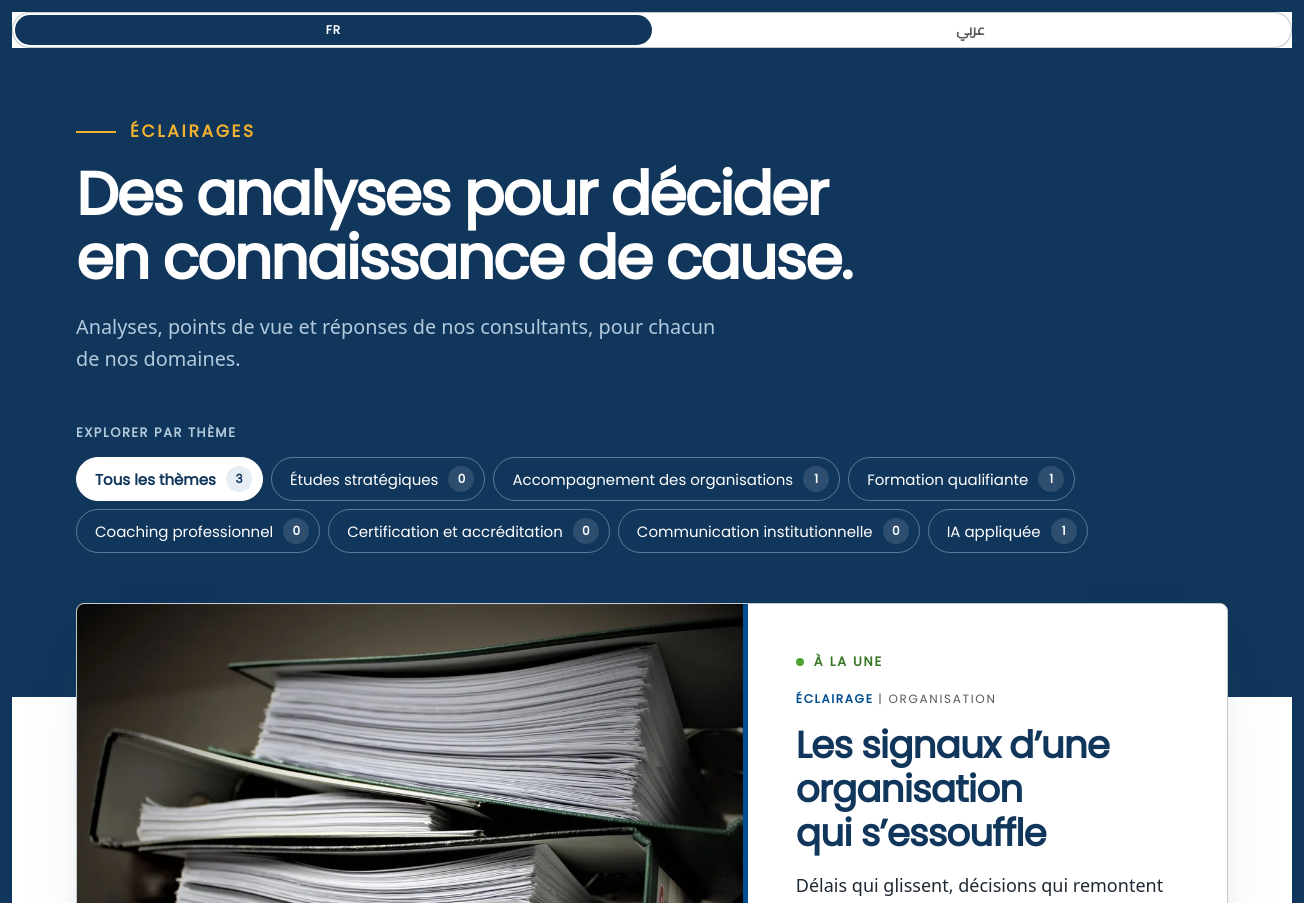
Test: Page « Éclairages » › un thème filtre la page et s’inscrit dans l’adresse
Click the button "IA appliquée 1".
click(1008, 532)  # box [928, 510, 1088, 554]
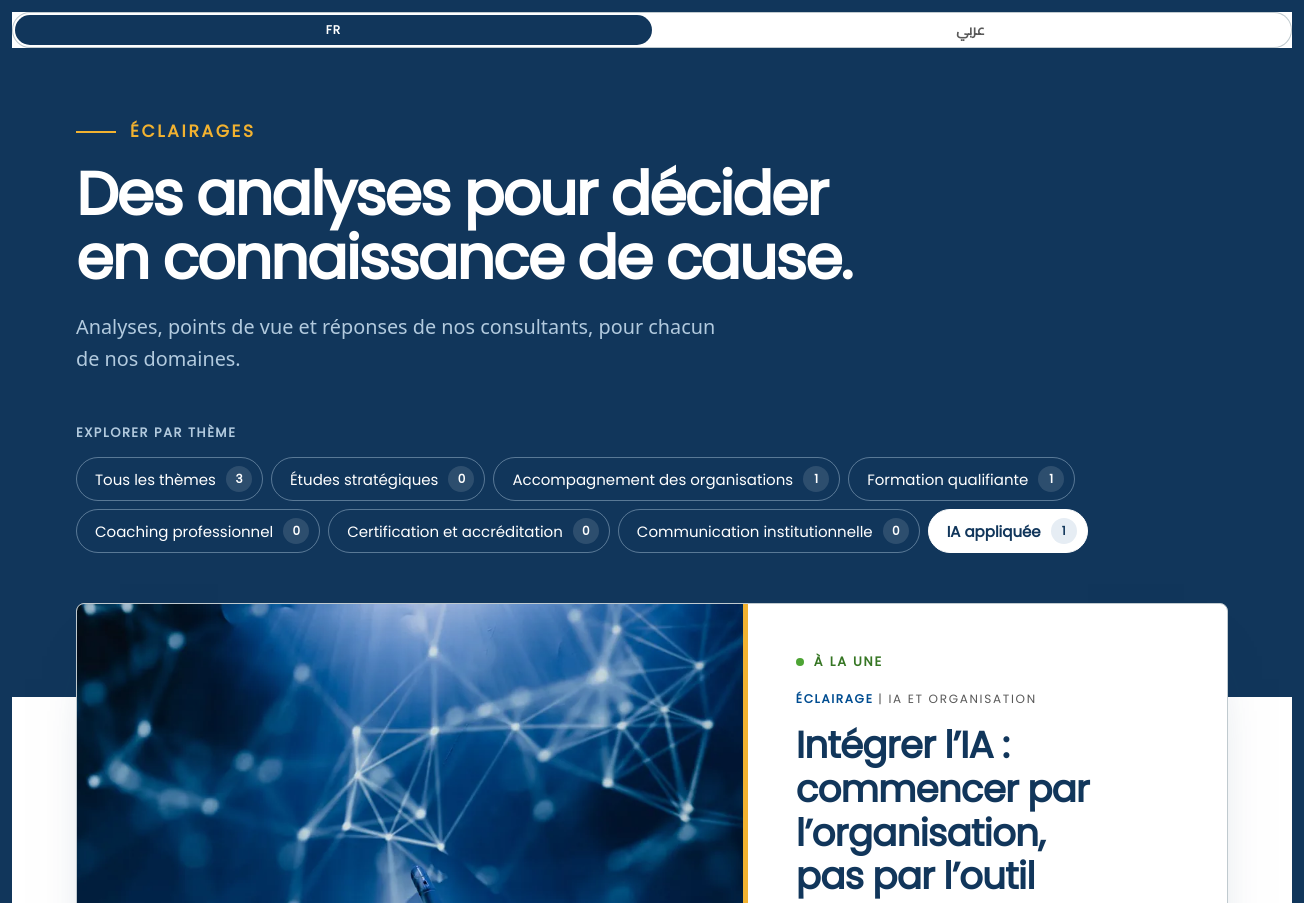
expect the heading "Les signaux d’une organisation qui s’essouffle" is gone: met
